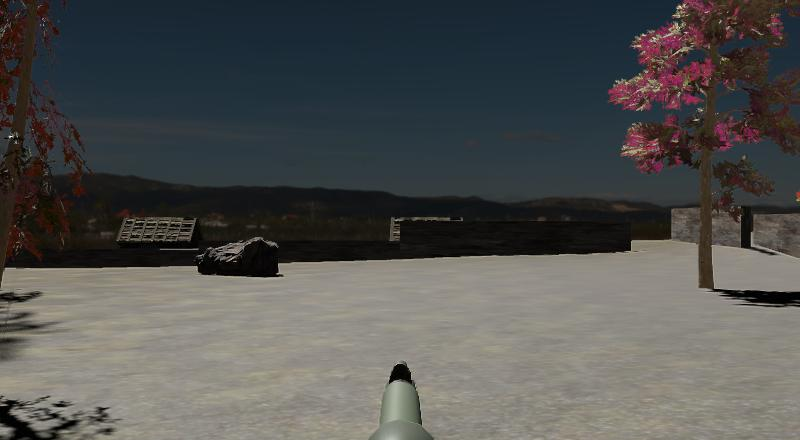House: (116, 216, 203, 266)
